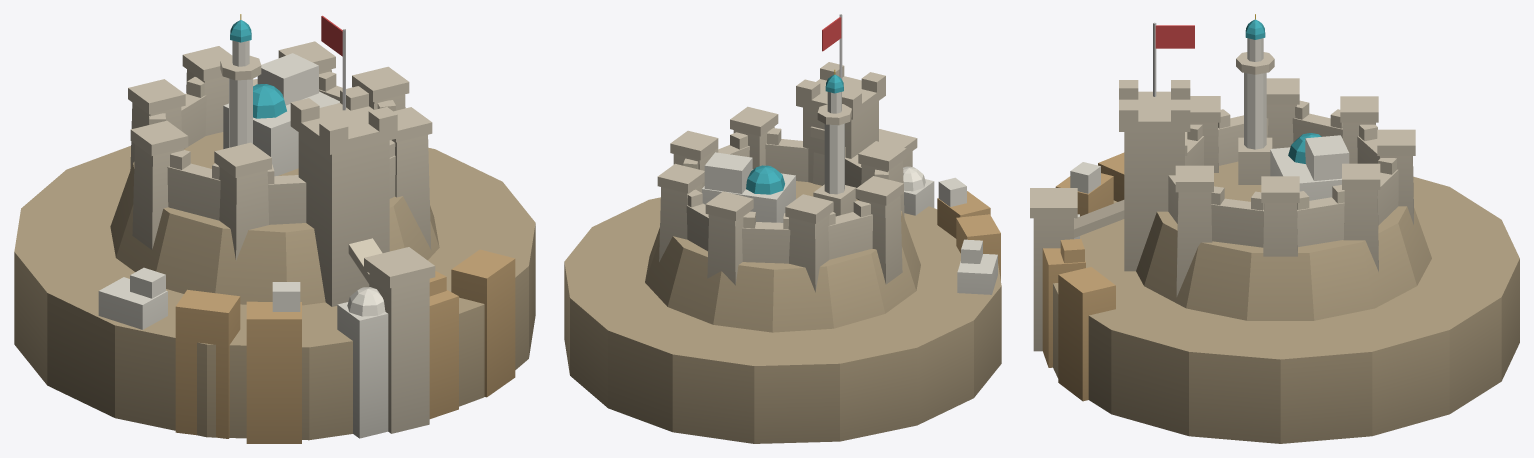
The model's file is castle_isl_b.glb.
3 renders of one model, left to right at view 1: azimuth 30°, elevation 25°; view 2: azimuth 150°, elevation 25°; view 3: azimuth 270°, elevation 25°, orthographic. The views are drawn at different scales.
Visible parts, largest first — view 1: castle_isl_b; view 2: castle_isl_b; view 3: castle_isl_b.
Part boxes in pixels (x1,y1,x2,y2): castle_isl_b: [14, 14, 535, 443]; castle_isl_b: [564, 14, 1001, 443]; castle_isl_b: [1030, 14, 1519, 443].
Bounding box in the file's own units: 1.9 × 1.4 × 1.94.
